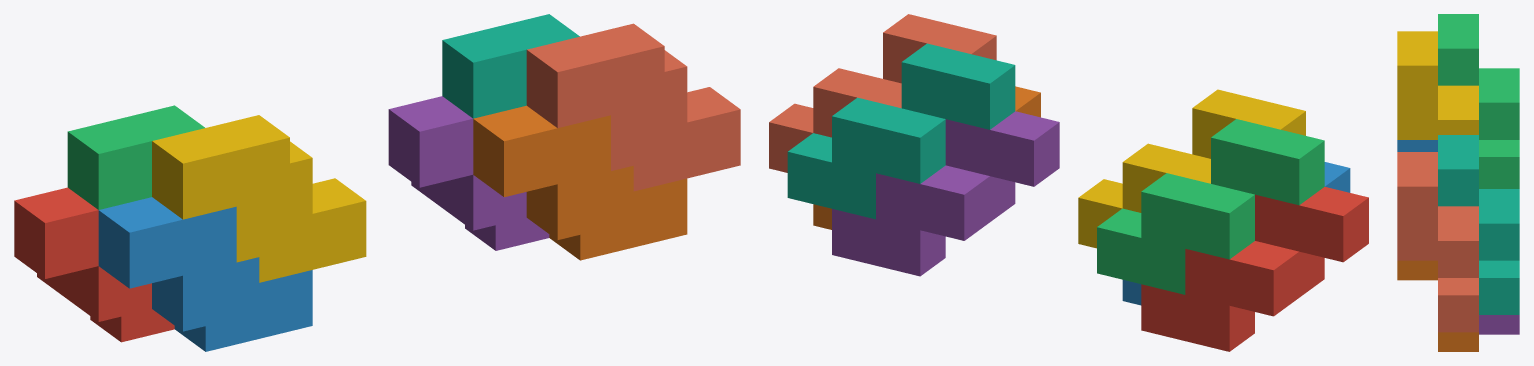
Rendered from tiling.obj.
3 renders of one model, left to right at view 1: azimuth 30°, elevation 25°; view 2: azimuth 150°, elevation 25°; view 3: azimuth 270°, elevation 25°, orthographic. The views are drawn at different scales.
Visible parts, largest first — view 1: copy_1_domain_4, copy_1_domain_8, copy_1_domain_2, copy_1_domain_6, copy_1_domain_5, copy_1_domain_1, copy_1_domain_3, copy_1_domain_7; view 2: copy_1_domain_7, copy_1_domain_3, copy_1_domain_5, copy_1_domain_1, copy_1_domain_4, copy_1_domain_8, copy_1_domain_2, copy_1_domain_6; view 3: copy_1_domain_8, copy_1_domain_7, copy_1_domain_3, copy_1_domain_4, copy_1_domain_6, copy_1_domain_5, copy_1_domain_2.
Part boxes in pixels (box(x1,y1,x2,y2)): copy_1_domain_4: box(152, 115, 366, 282); copy_1_domain_8: box(526, 23, 740, 191); copy_1_domain_2: box(98, 197, 312, 351); copy_1_domain_6: box(473, 105, 687, 260); copy_1_domain_5: box(388, 96, 549, 250); copy_1_domain_1: box(14, 187, 174, 342); copy_1_domain_3: box(67, 105, 204, 209); copy_1_domain_7: box(442, 14, 579, 118); copy_1_domain_7: box(787, 43, 1015, 219); copy_1_domain_3: box(1097, 119, 1324, 294); copy_1_domain_5: box(832, 111, 1059, 276); copy_1_domain_1: box(1141, 187, 1368, 351); copy_1_domain_4: box(1078, 89, 1305, 248); copy_1_domain_8: box(769, 14, 996, 172); copy_1_domain_2: box(1122, 162, 1350, 305); copy_1_domain_6: box(813, 86, 1040, 229); copy_1_domain_8: box(1397, 152, 1478, 332); copy_1_domain_7: box(1438, 135, 1519, 314); copy_1_domain_3: box(1438, 14, 1519, 188); copy_1_domain_4: box(1397, 31, 1478, 139); copy_1_domain_6: box(1397, 260, 1478, 351); copy_1_domain_5: box(1479, 315, 1519, 334); copy_1_domain_2: box(1397, 140, 1437, 151).
Size of the model in its own units: 13 by 4 by 3.
